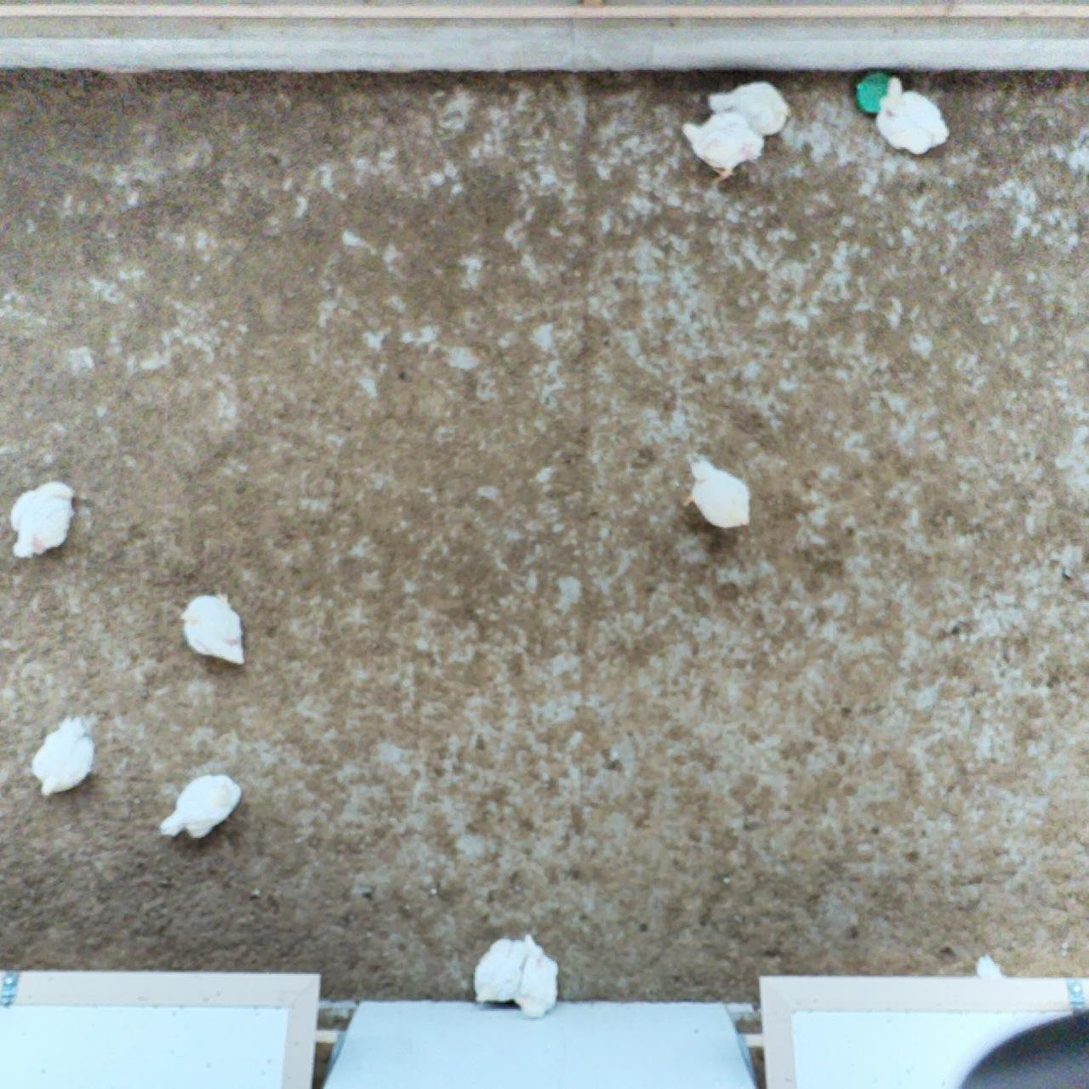chicken: (676, 451, 756, 545), (676, 108, 771, 187), (874, 71, 957, 161), (153, 770, 242, 844), (29, 713, 101, 802), (177, 587, 251, 673), (5, 478, 79, 563), (706, 78, 797, 138), (466, 932, 531, 1005), (513, 940, 564, 1025)
